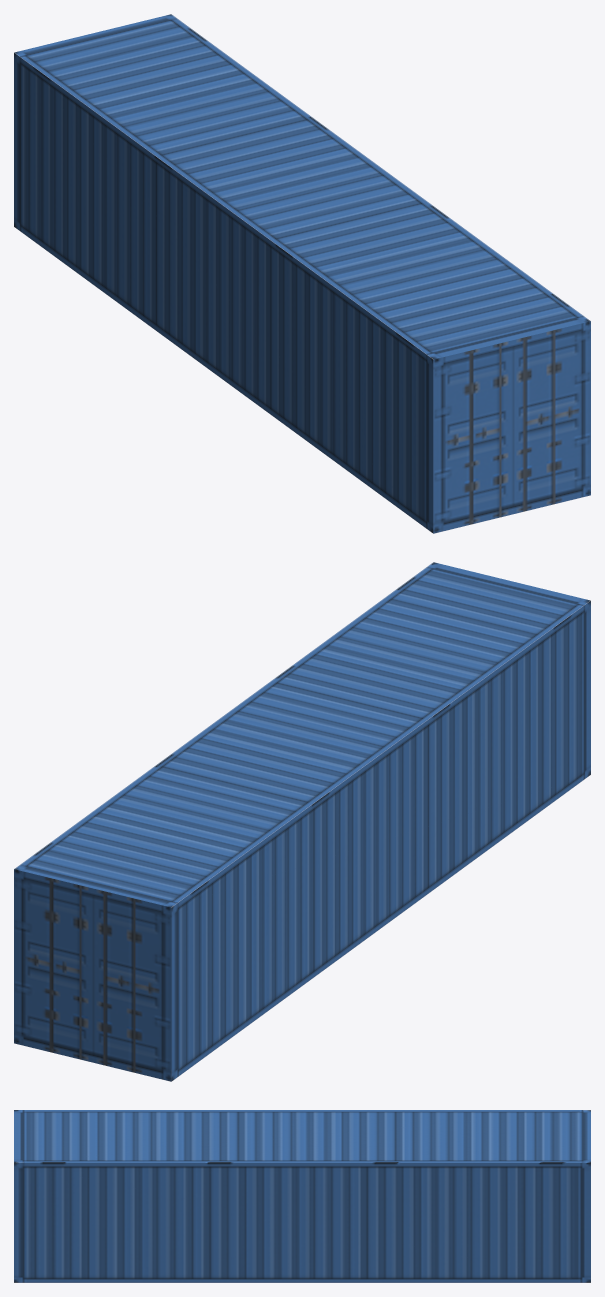
Rendered from Container.fbx.
3 views of the same model, one above another, from view 1: azimuth 30°, elevation 25°; view 2: azimuth 150°, elevation 25°; view 3: azimuth 270°, elevation 25° (orthographic). The views are drawn at different scales.
Visible parts, largest first — view 1: ContainerBiru_LOD0; view 2: ContainerBiru_LOD0; view 3: ContainerBiru_LOD0.
Part boxes in pixels (box(x1,y1,x2,y2)): ContainerBiru_LOD0: box(14, 14, 590, 533); ContainerBiru_LOD0: box(14, 562, 590, 1081); ContainerBiru_LOD0: box(14, 1110, 590, 1282).
Bounding box in the file's own units: 418 × 442 × 1929.
